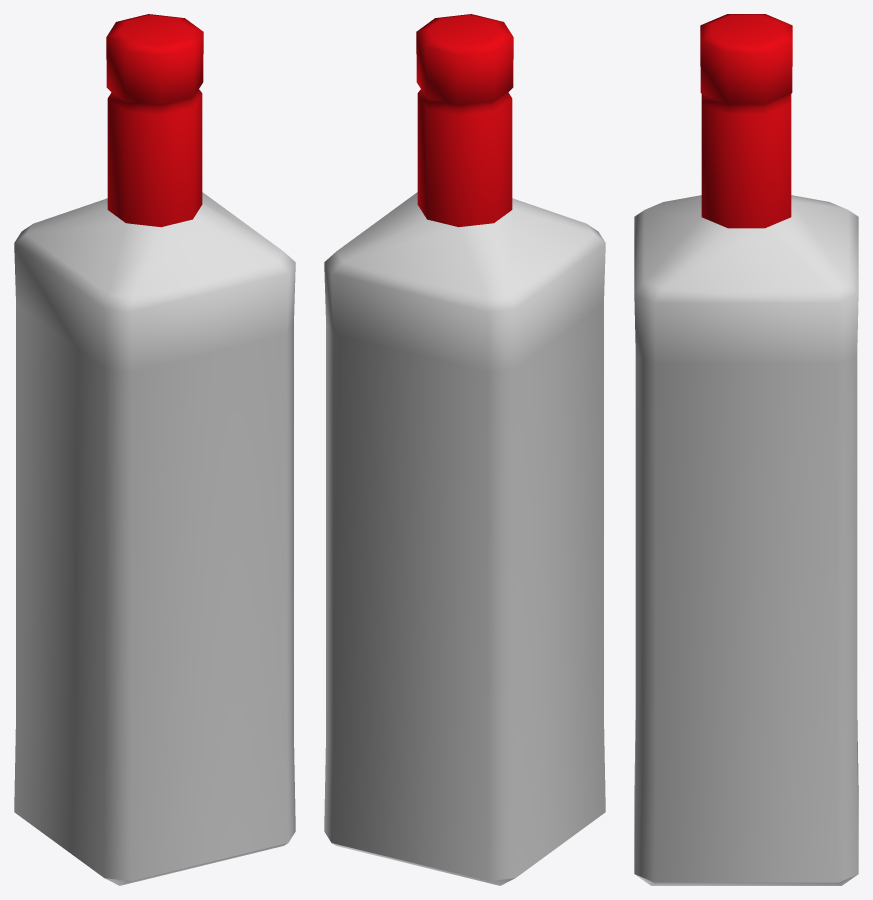
File: WhiteRedLid.fbx
3 views of the same model, side by side, from view 1: azimuth 30°, elevation 25°; view 2: azimuth 150°, elevation 25°; view 3: azimuth 270°, elevation 25° (orthographic).
Parts seen in each view (by area): view 1: WhiteRedLid; view 2: WhiteRedLid; view 3: WhiteRedLid.
Boxes of the visible parts, x1,y1,x2,y2 form: WhiteRedLid: (14, 14, 295, 885); WhiteRedLid: (324, 14, 605, 885); WhiteRedLid: (634, 14, 858, 885).
Size of the model in its own units: 6.99 by 27.93 by 6.96.
